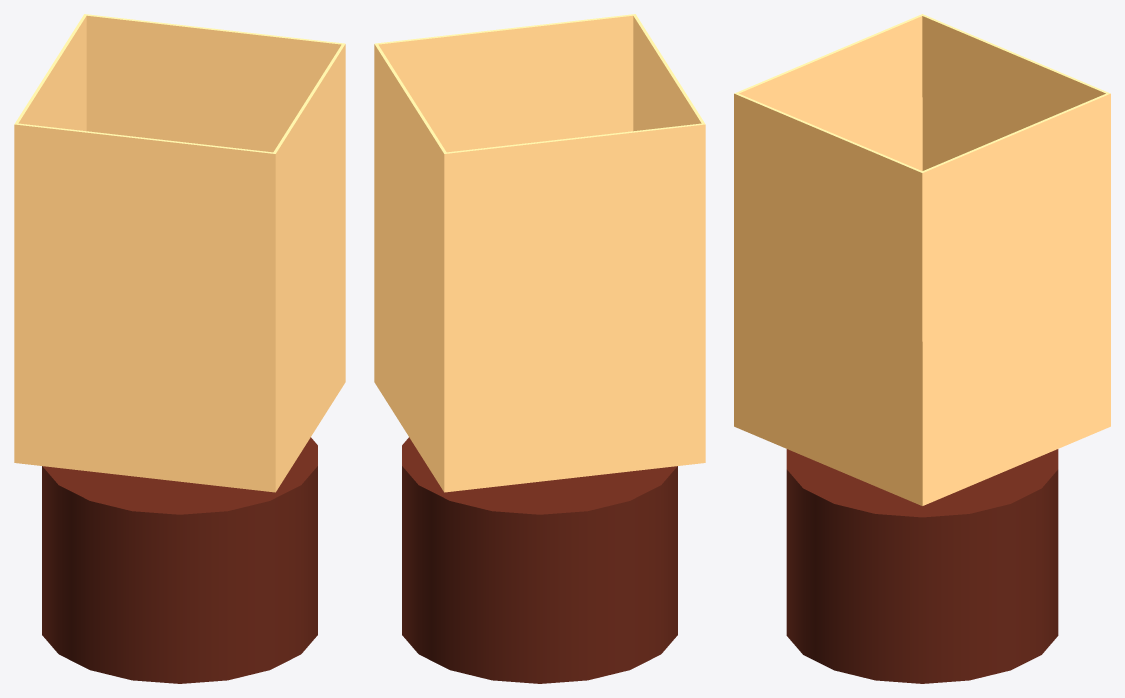
The model's file is Table_Lamp_CylindricalBase_SquareShade.fbx.
3 renders of one model, left to right at view 1: azimuth 30°, elevation 25°; view 2: azimuth 150°, elevation 25°; view 3: azimuth 270°, elevation 25°, orthographic.
Parts seen in each view (by area): view 1: Table_Lamp_CylindricalBase_SquareShade; view 2: Table_Lamp_CylindricalBase_SquareShade; view 3: Table_Lamp_CylindricalBase_SquareShade.
Boxes of the visible parts, bbox=[...] form: Table_Lamp_CylindricalBase_SquareShade: bbox=[14, 14, 345, 683]; Table_Lamp_CylindricalBase_SquareShade: bbox=[374, 14, 705, 683]; Table_Lamp_CylindricalBase_SquareShade: bbox=[734, 14, 1110, 683].
Size of the model in its own units: 30.75 by 47.93 by 30.75.
